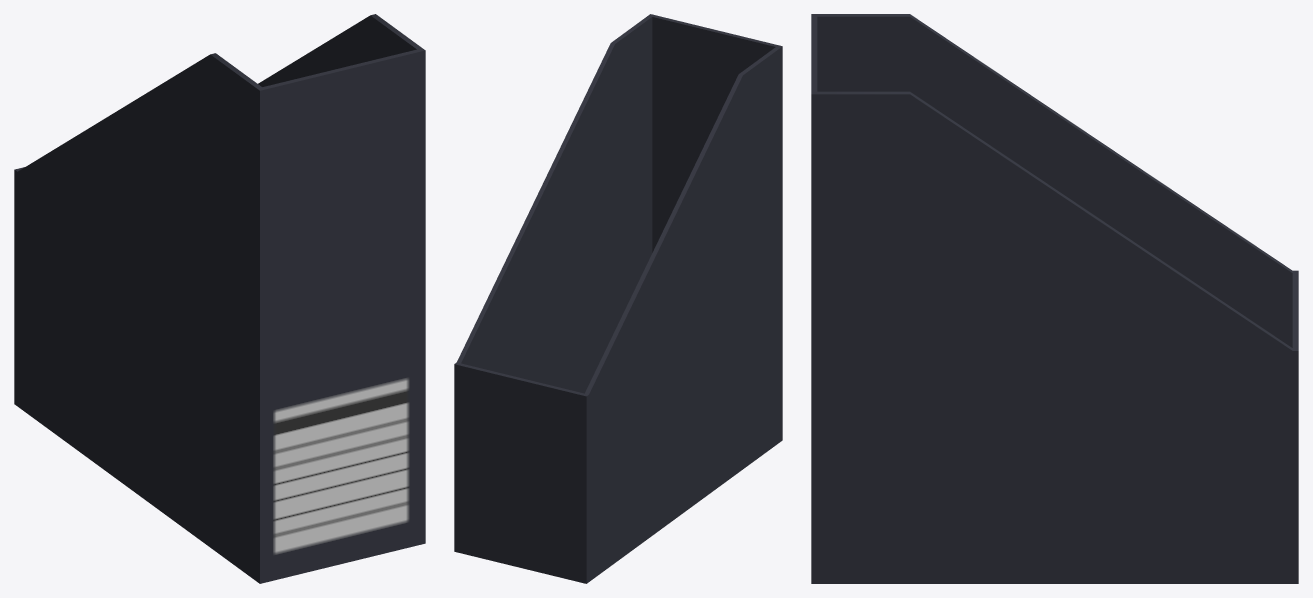
The model's file is office folder13.FBX.
3 views of the same model, side by side, from view 1: azimuth 30°, elevation 25°; view 2: azimuth 150°, elevation 25°; view 3: azimuth 270°, elevation 25° (orthographic). The views are drawn at different scales.
Visible parts, largest first — view 1: office folder13; view 2: office folder13; view 3: office folder13.
Boxes of the visible parts, <box> form: office folder13: <box>14,14,425,583</box>; office folder13: <box>454,14,782,583</box>; office folder13: <box>811,14,1298,583</box>.
Bounding box in the file's own units: 3.92 × 10.07 × 11.16.
1 material, 1 textured.
